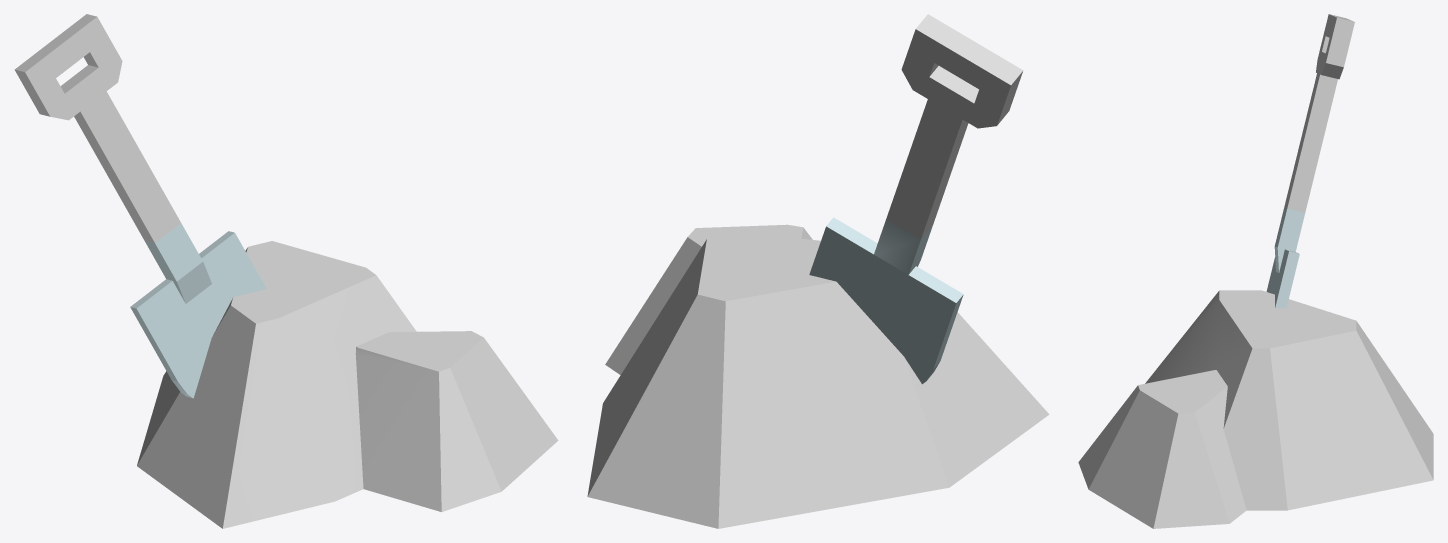
The model's file is ClayBox.fbx.
The picture shows the model from 3 angles, left to right: view 1: azimuth 30°, elevation 25°; view 2: azimuth 150°, elevation 25°; view 3: azimuth 270°, elevation 25°; orthographic projection. The views are drawn at different scales.
Parts seen in each view (by area): view 1: shovelDirt; view 2: shovelDirt; view 3: shovelDirt.
Part boxes in pixels (box(x1,y1,x2,y2)): shovelDirt: box(14, 14, 558, 528); shovelDirt: box(587, 14, 1049, 528); shovelDirt: box(1078, 14, 1433, 528).
Size of the model in its own units: 17.98 by 17.21 by 15.17.
